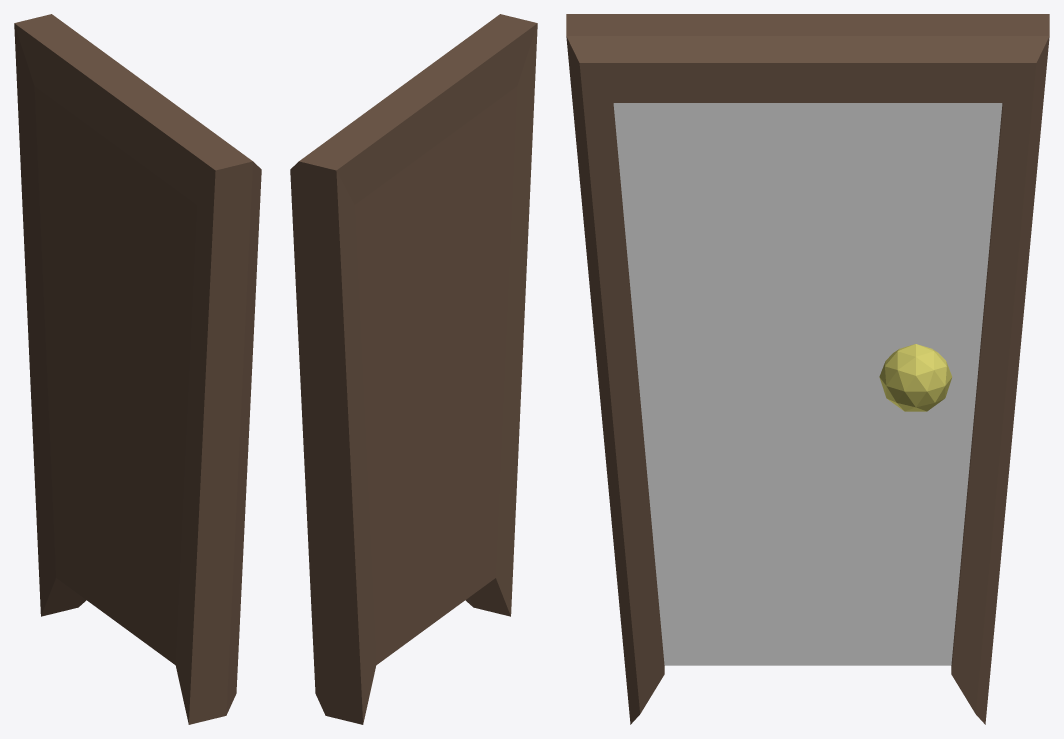
Rendered from Door.fbx.
3 renders of one model, left to right at view 1: azimuth 30°, elevation 25°; view 2: azimuth 150°, elevation 25°; view 3: azimuth 270°, elevation 25°, orthographic. The views are drawn at different scales.
Parts seen in each view (by area): view 1: Door; view 2: Door; view 3: Door.
Boxes of the visible parts, x1=… form: Door: x1=14, y1=14, x2=261, y2=724; Door: x1=290, y1=14, x2=537, y2=724; Door: x1=566, y1=14, x2=1049, y2=724.
Size of the model in its own units: 145 by 1295 by 823.
